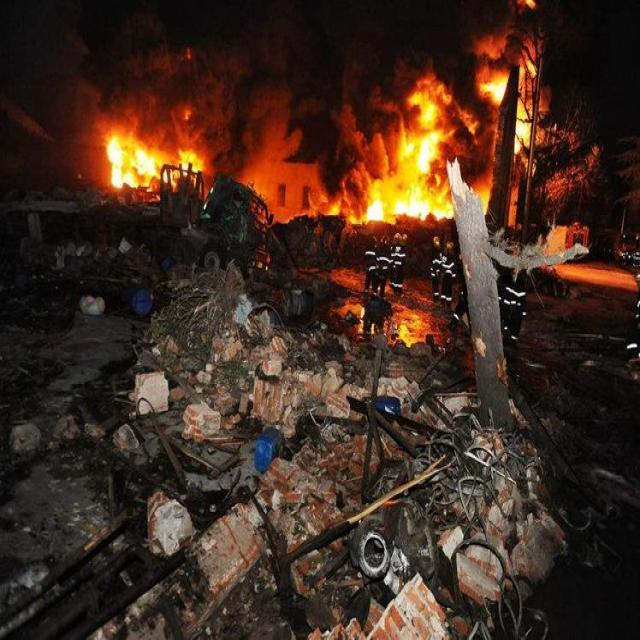Fire: (362, 102, 452, 222), (108, 133, 158, 190), (480, 71, 510, 109)
